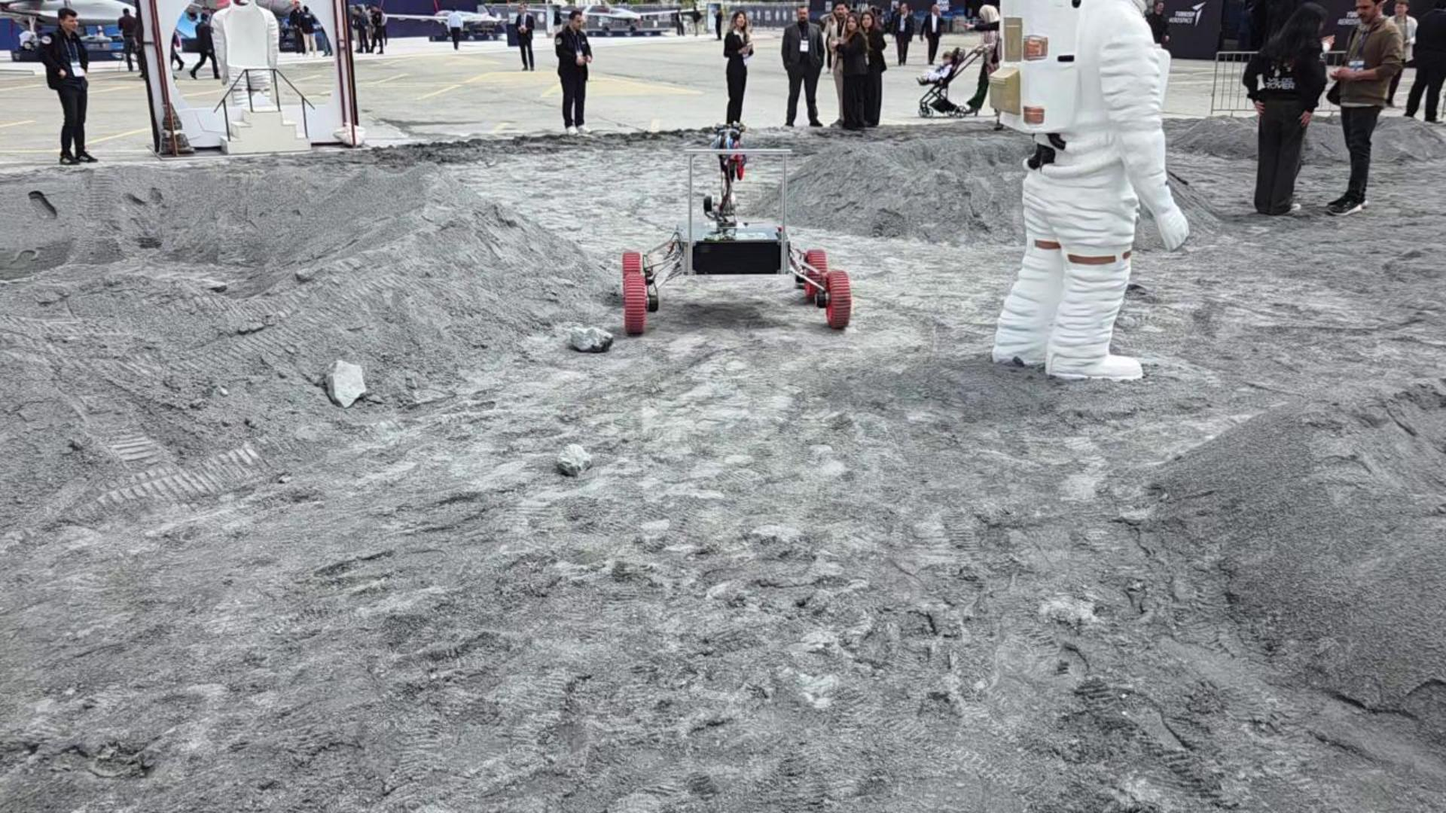rock: (324, 359, 366, 408), (569, 326, 612, 351), (557, 444, 591, 475)
